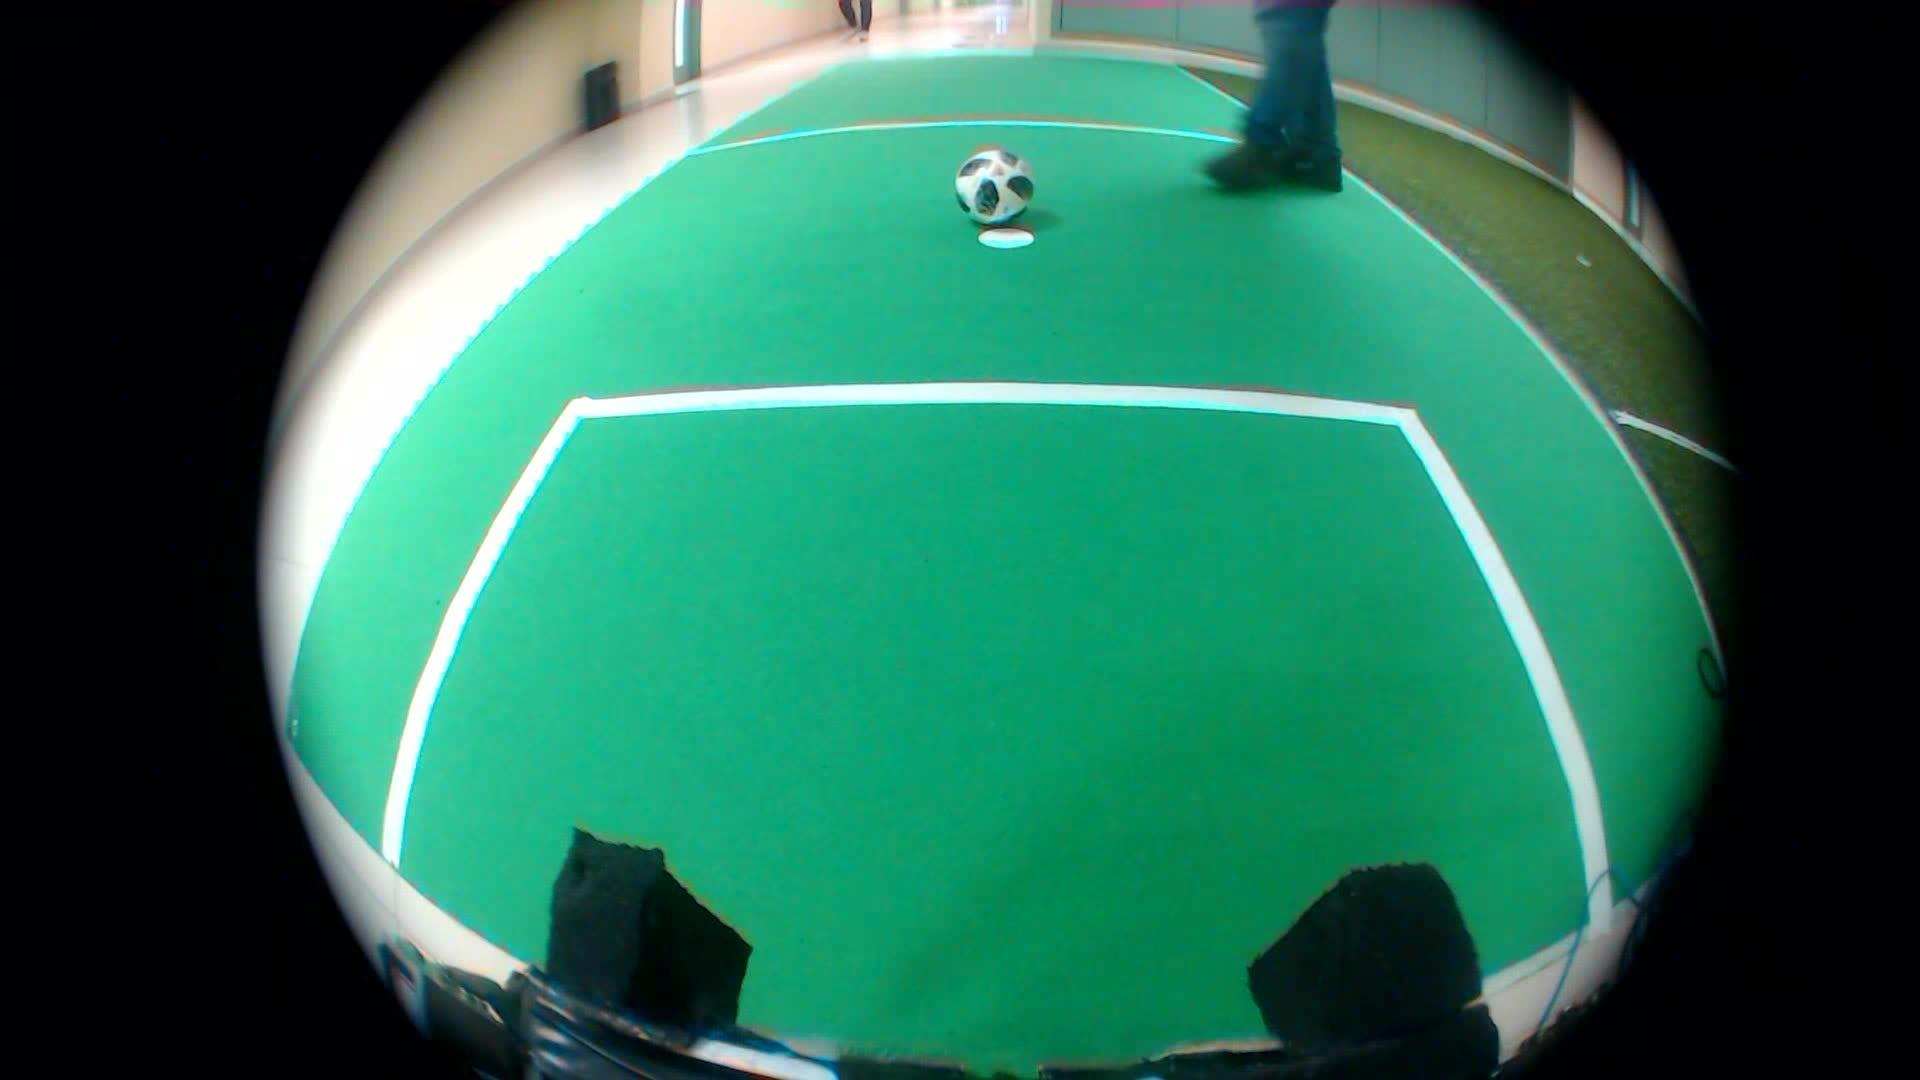ball: (947, 142, 1042, 237)
